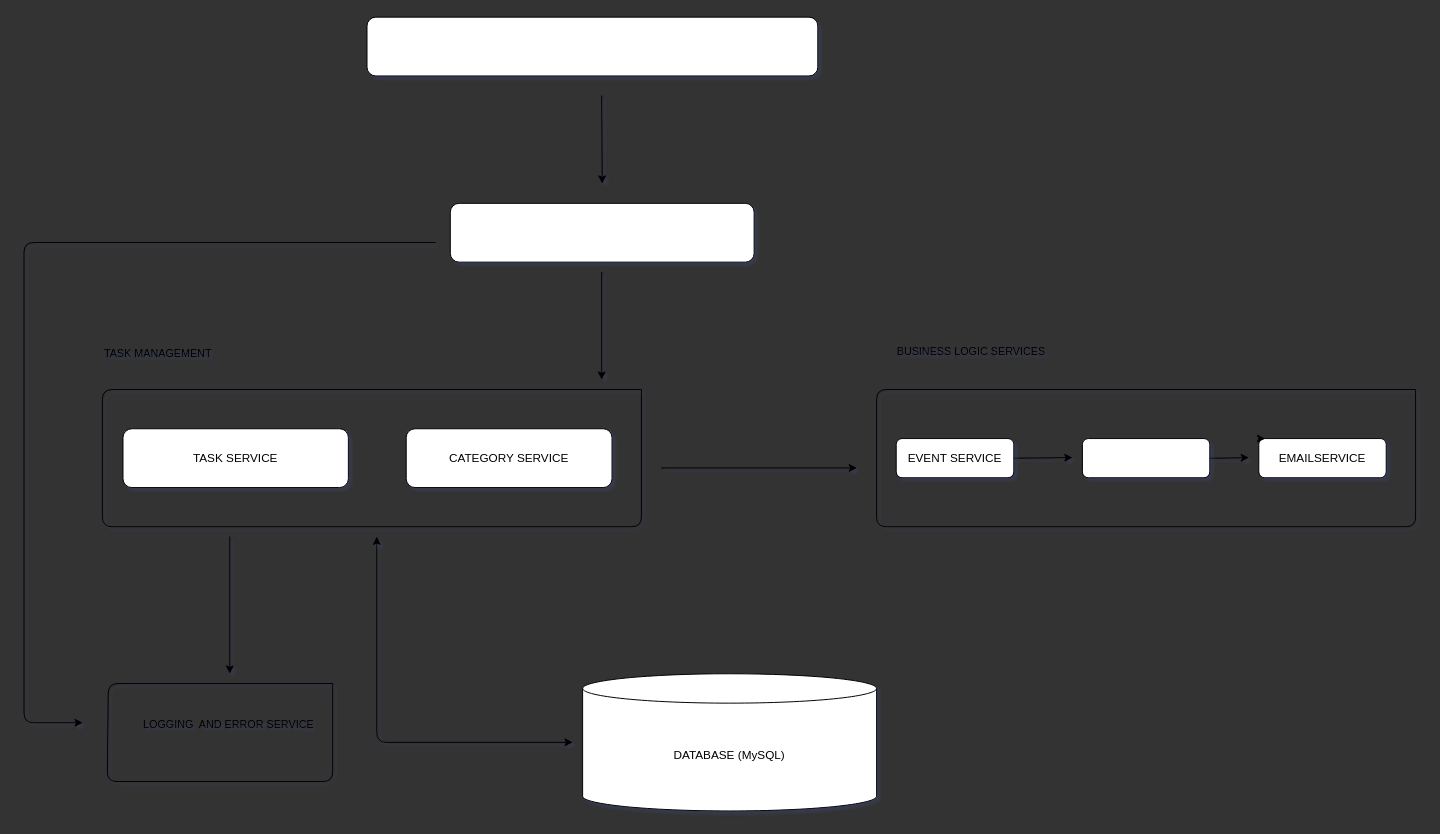
The diagram is 1440 pixels wide and 834 high, and some of its shapes have lost their labels. The shapes that lost their labels are listed below. From the top down, each one's box as (x1, y1, x2, y2) in pixels, then its label:
(366, 16, 818, 76): USER SERVICE
(449, 202, 754, 262): AUTHENTICATICATION SERVICE
(1081, 438, 1210, 478): MESSAGE BROKERS
